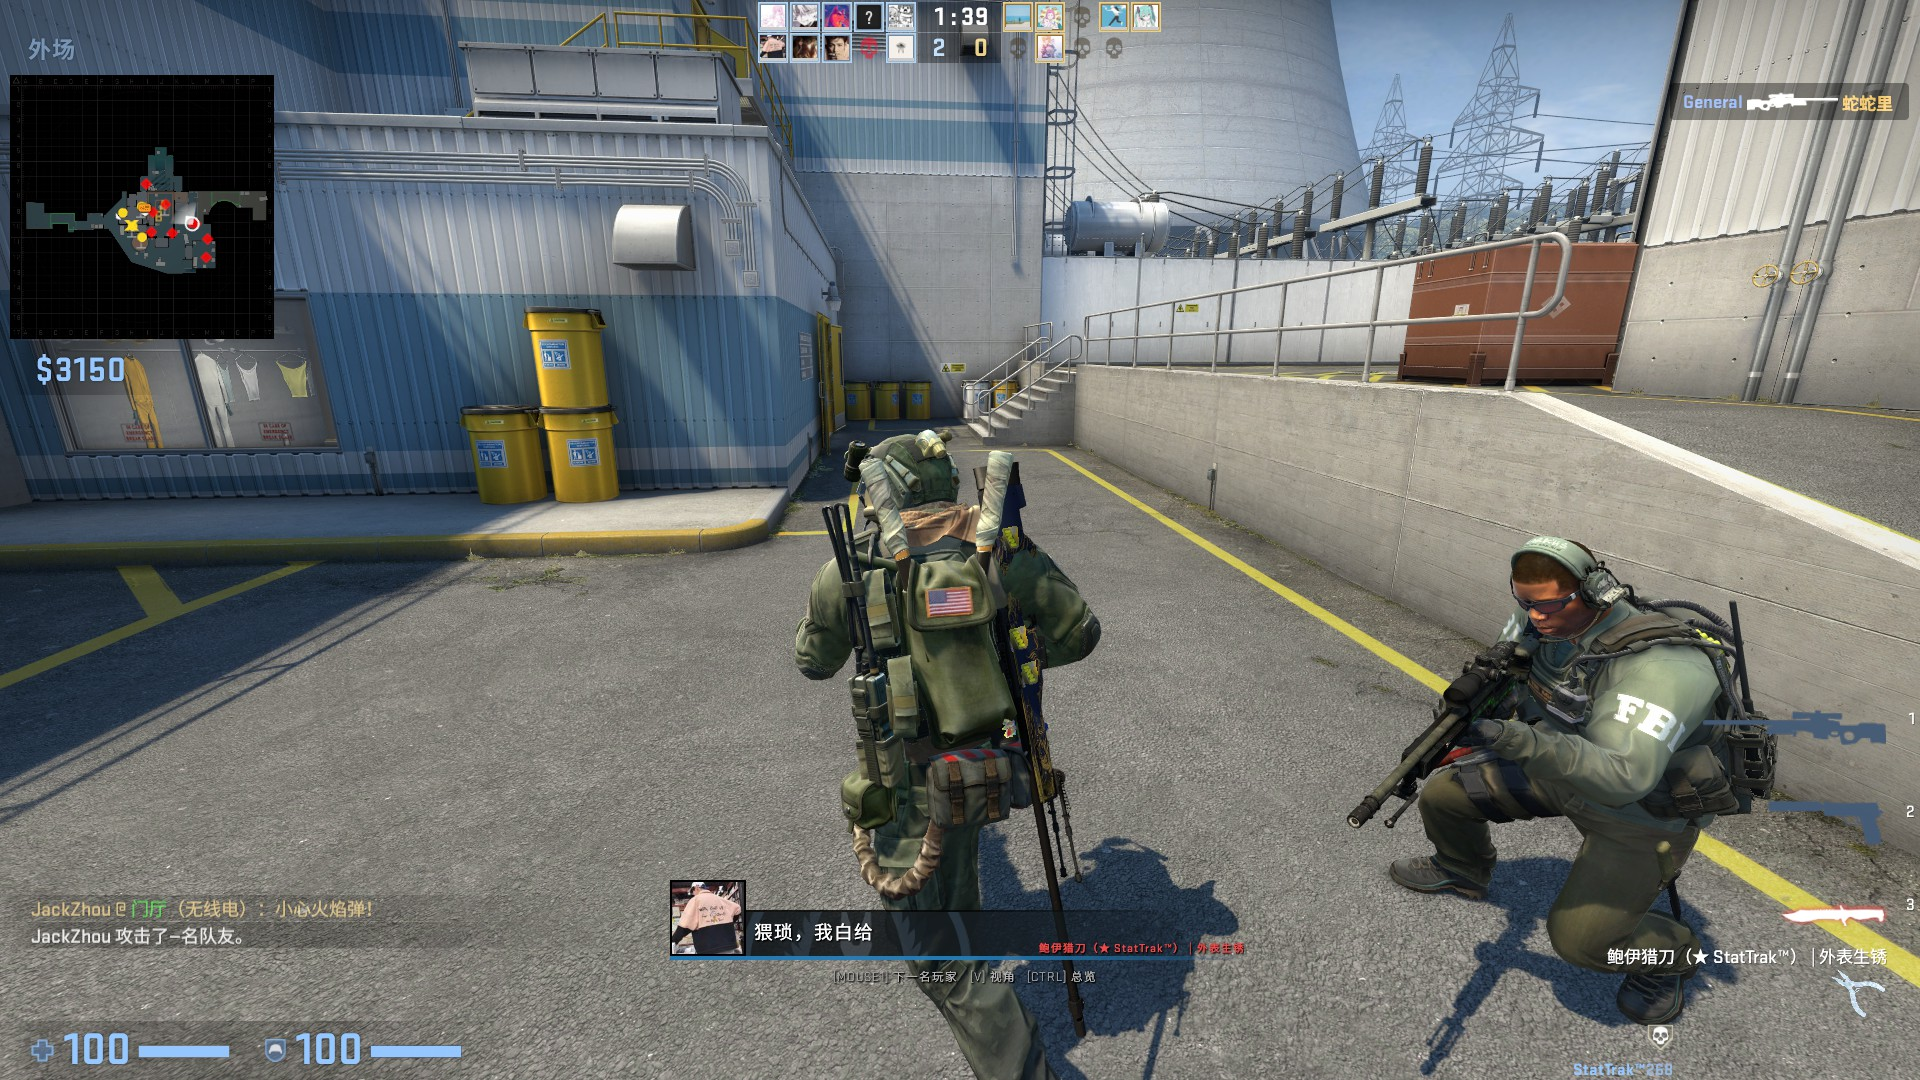head: (1508, 534, 1609, 639), (842, 427, 961, 509)
